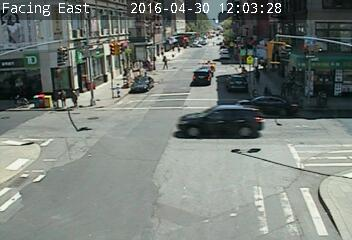neg: (139, 78, 157, 103), (51, 160, 69, 184), (274, 162, 292, 186), (85, 79, 103, 103), (126, 168, 144, 191), (186, 39, 203, 63), (232, 183, 249, 206), (25, 51, 41, 73), (292, 102, 308, 124), (223, 111, 239, 133), (132, 124, 148, 146), (90, 185, 106, 207), (62, 40, 78, 61), (266, 30, 282, 51), (20, 133, 36, 154), (311, 167, 327, 188), (37, 92, 53, 112), (237, 141, 253, 161), (62, 68, 76, 87), (86, 125, 100, 144), (196, 170, 210, 189), (316, 89, 330, 108), (209, 85, 222, 102), (186, 133, 199, 150), (174, 91, 187, 107), (244, 56, 256, 71), (319, 49, 330, 64), (114, 42, 124, 56)
pos: (68, 88, 83, 108), (58, 88, 72, 107), (253, 66, 267, 85), (113, 81, 125, 97), (159, 55, 169, 69), (262, 82, 272, 96)
